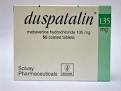Medicine: (12, 4, 112, 84)
